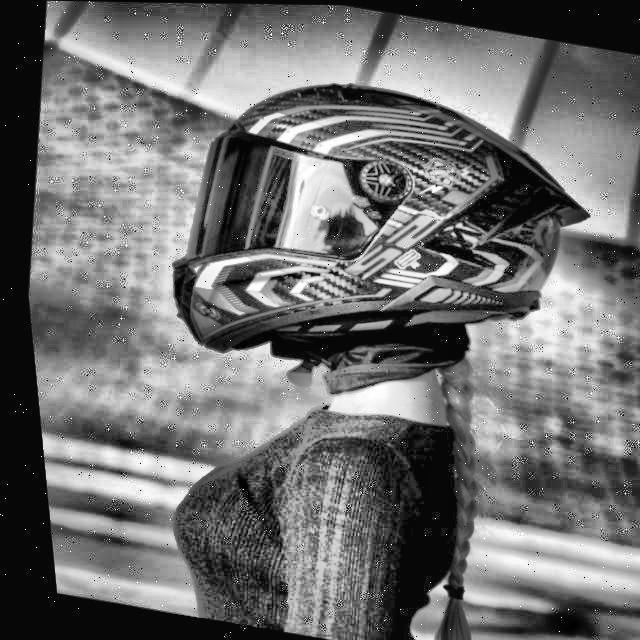Helmet: (132, 47, 626, 420)
